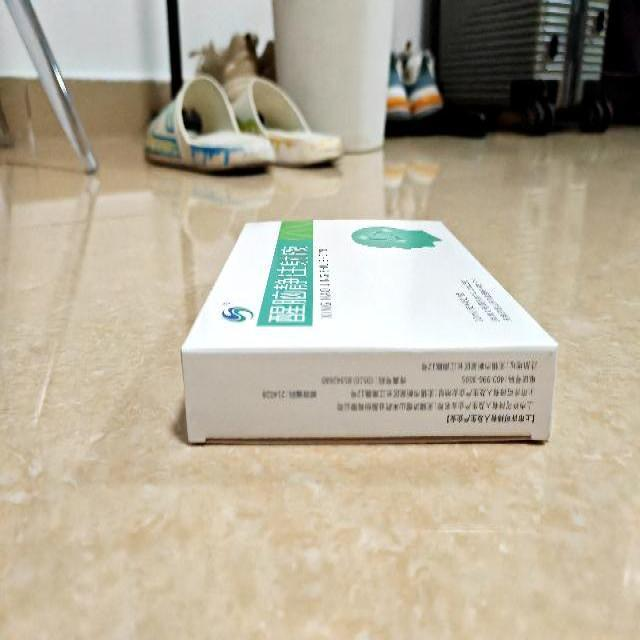box: (180, 216, 560, 444)
